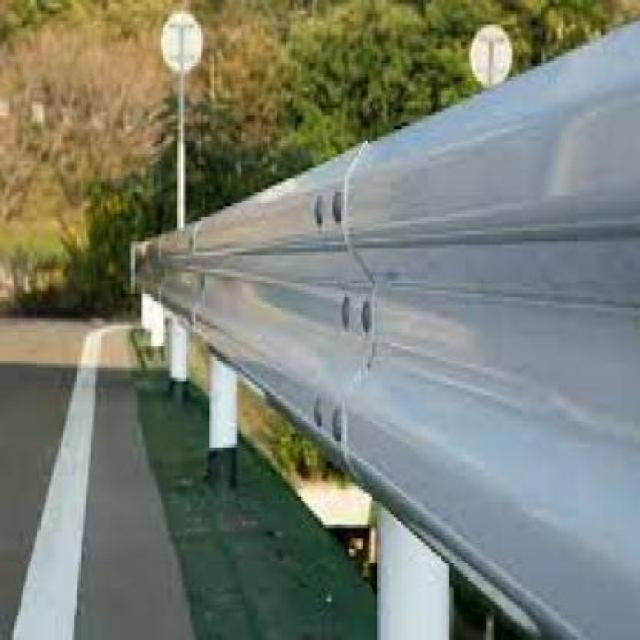Guard rail: (131, 14, 638, 635)
